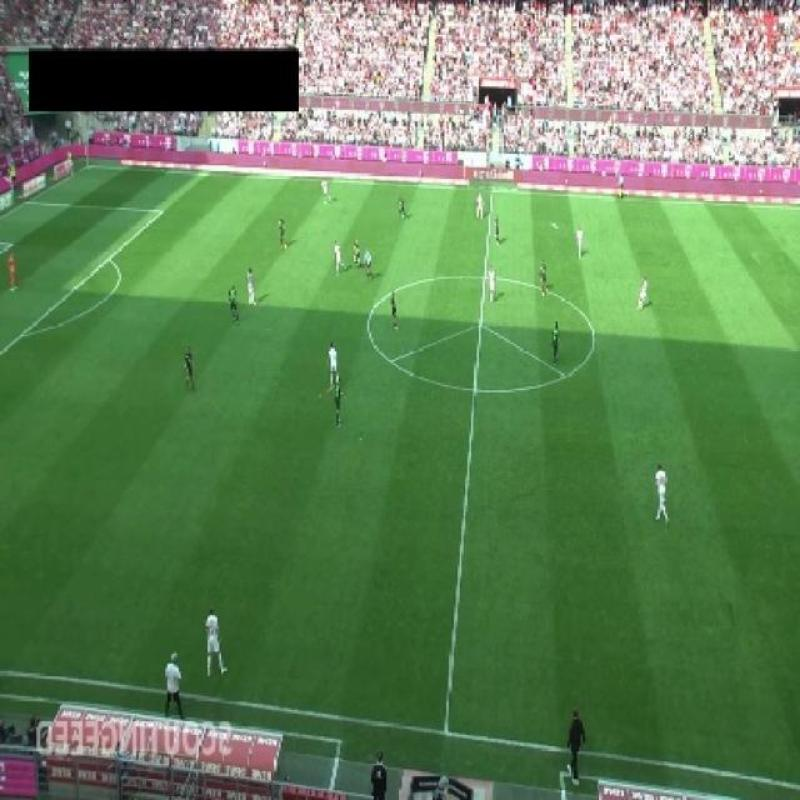1: (79, 156, 99, 174)
10: (101, 246, 118, 265)
11: (13, 320, 31, 344)
13: (480, 180, 502, 198)
14: (477, 270, 492, 284)
15: (462, 374, 488, 406)
16: (425, 714, 466, 752)
2: (19, 192, 37, 209)
7: (4, 233, 22, 250)
9: (152, 202, 168, 219)
c: (578, 319, 612, 359), (360, 308, 380, 347)
